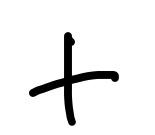plus: (27, 31, 118, 126)
